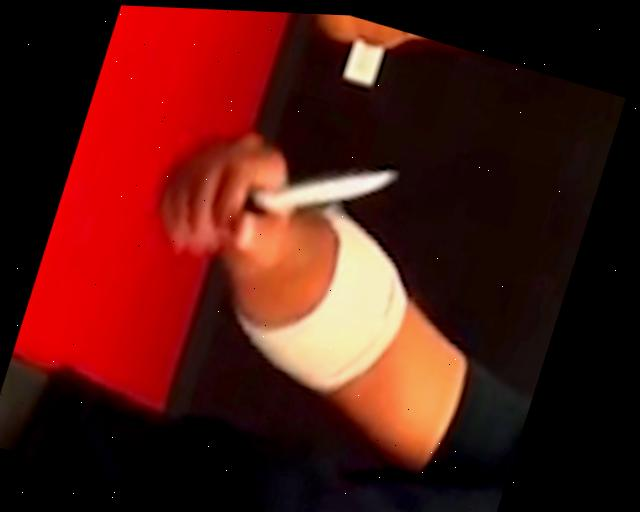pocket-knife: (195, 115, 415, 280)
